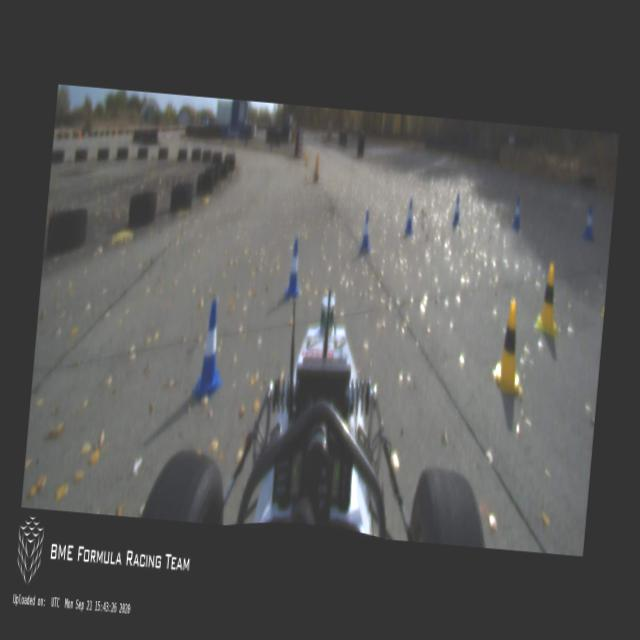blue_cone: (192, 299, 228, 402), (284, 238, 302, 295), (358, 210, 372, 252), (582, 206, 596, 240), (403, 198, 415, 234), (510, 198, 522, 230), (452, 195, 461, 222)
yellow_cone: (494, 298, 526, 392), (534, 260, 562, 338)
